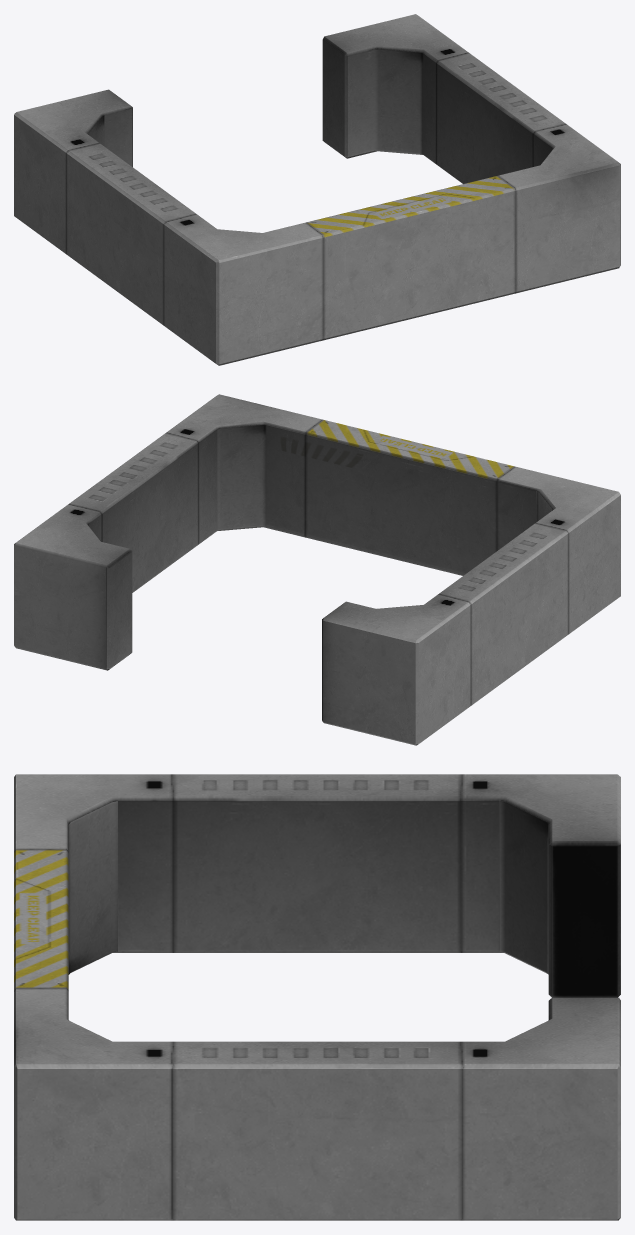
File: BG_GR_BD_Lift_02.fbx
3 renders of one model, top to bottom at view 1: azimuth 30°, elevation 25°; view 2: azimuth 150°, elevation 25°; view 3: azimuth 270°, elevation 25°, orthographic. The views are drawn at different scales.
Parts seen in each view (by area): view 1: lift_mid_01_low.006; view 2: lift_mid_01_low.006; view 3: lift_mid_01_low.006.
Boxes of the visible parts, x1,y1,x2,y2 form: lift_mid_01_low.006: (14, 14, 620, 365); lift_mid_01_low.006: (14, 394, 620, 745); lift_mid_01_low.006: (14, 774, 620, 1220).
Size of the model in its own units: 1.99 by 1.74 by 0.4969.
